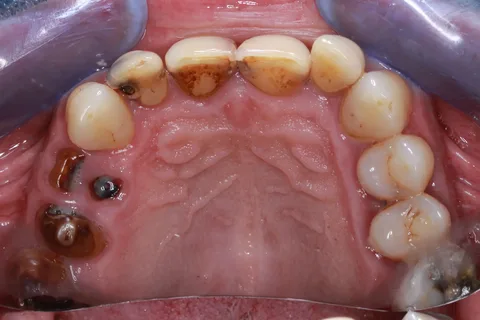UL1BC_decay: (359, 139, 434, 198)
UL1M_decay: (397, 254, 472, 298)
UL2BC_decay: (369, 196, 453, 254)
ULCI_decay: (241, 37, 311, 92)
ULC_healthy: (339, 74, 414, 138)
ULLI_decay: (312, 36, 364, 92)
UR1BC_decay: (57, 153, 122, 201)
UR2BC_decay: (37, 203, 107, 260)
URCI_decay: (167, 35, 237, 94)
URC_healthy: (60, 82, 139, 149)
URLI_decay: (111, 54, 169, 106)
